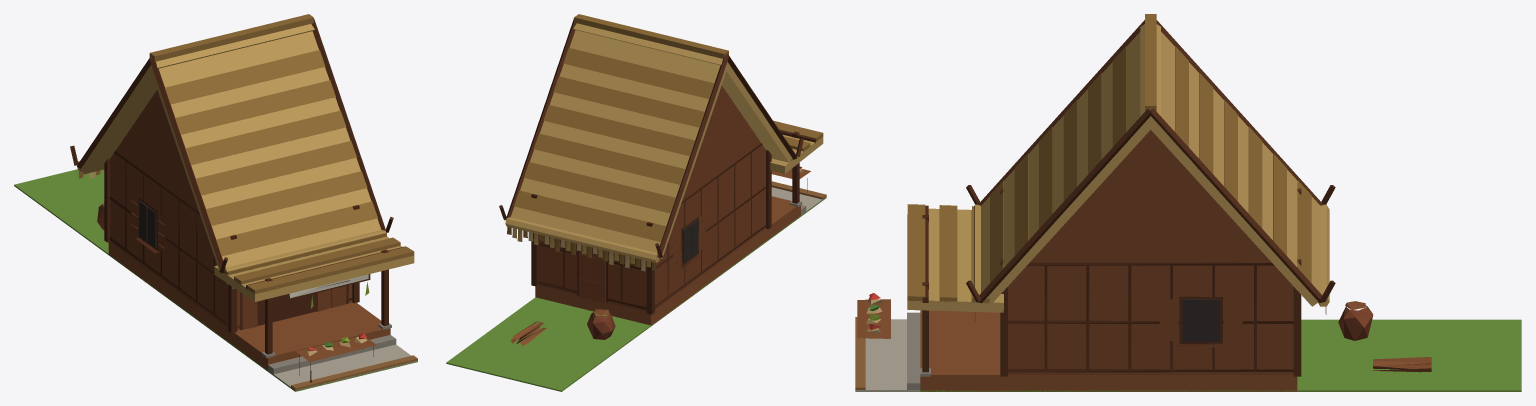
File: bay1_one.glb
The picture shows the model from 3 angles, left to right: view 1: azimuth 30°, elevation 25°; view 2: azimuth 150°, elevation 25°; view 3: azimuth 270°, elevation 25°; orthographic projection. The views are drawn at different scales.
Visible parts, largest first — view 1: body, windows; view 2: body, windows; view 3: body, windows.
Boxes of the visible parts, x1,y1,x2,y2 form: body: (14, 14, 417, 391); windows: (139, 201, 156, 247); body: (446, 14, 826, 391); windows: (682, 219, 698, 263); body: (855, 14, 1521, 391); windows: (1182, 299, 1219, 341).
Bounding box in the file's own units: 5.54 × 7.81 × 15.9.
